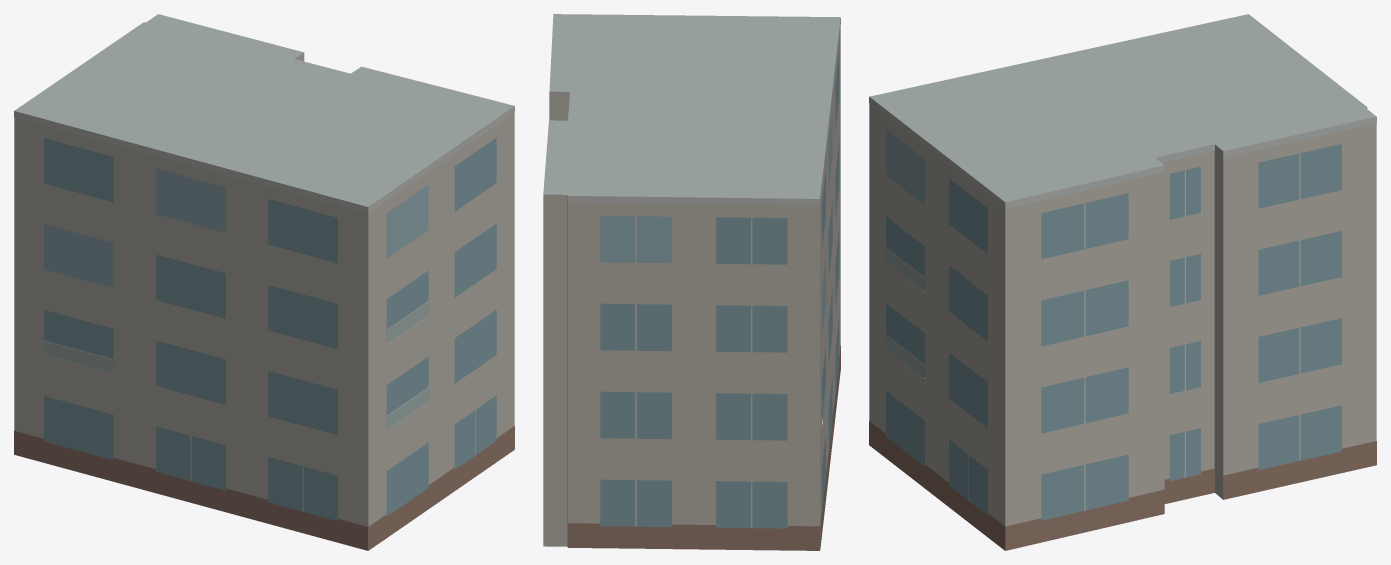
The model's file is survey-upis-32666828.glb.
3 renders of one model, left to right at view 1: azimuth 30°, elevation 25°; view 2: azimuth 150°, elevation 25°; view 3: azimuth 270°, elevation 25°, orthographic. The views are drawn at different scales.
Parts seen in each view (by area): view 1: survey-upis-32666828.tmp; view 2: survey-upis-32666828.tmp; view 3: survey-upis-32666828.tmp.
Boxes of the visible parts, <box> form: survey-upis-32666828.tmp: <box>14,14,514,550</box>; survey-upis-32666828.tmp: <box>543,14,840,550</box>; survey-upis-32666828.tmp: <box>869,14,1376,550</box>.
Bounding box in the file's own units: 14.84 × 12.8 × 16.9.
